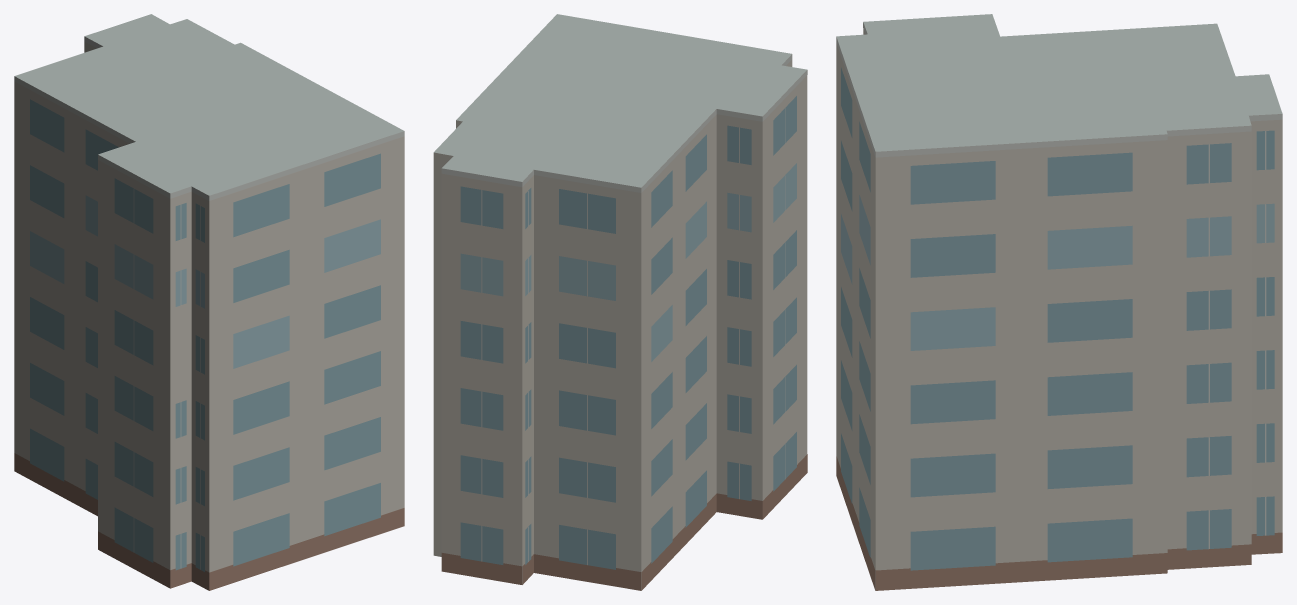
Rendered from survey-upis-32727588.glb.
3 renders of one model, left to right at view 1: azimuth 30°, elevation 25°; view 2: azimuth 150°, elevation 25°; view 3: azimuth 270°, elevation 25°, orthographic. The views are drawn at different scales.
Parts seen in each view (by area): view 1: survey-upis-32727588.tmp; view 2: survey-upis-32727588.tmp; view 3: survey-upis-32727588.tmp.
Boxes of the visible parts, left/top/right/bottom form: survey-upis-32727588.tmp: left=14, top=14, right=404, bottom=590; survey-upis-32727588.tmp: left=433, top=14, right=807, bottom=590; survey-upis-32727588.tmp: left=836, top=14, right=1282, bottom=590.
Bounding box in the file's own units: 12.43 × 18.45 × 17.01.
